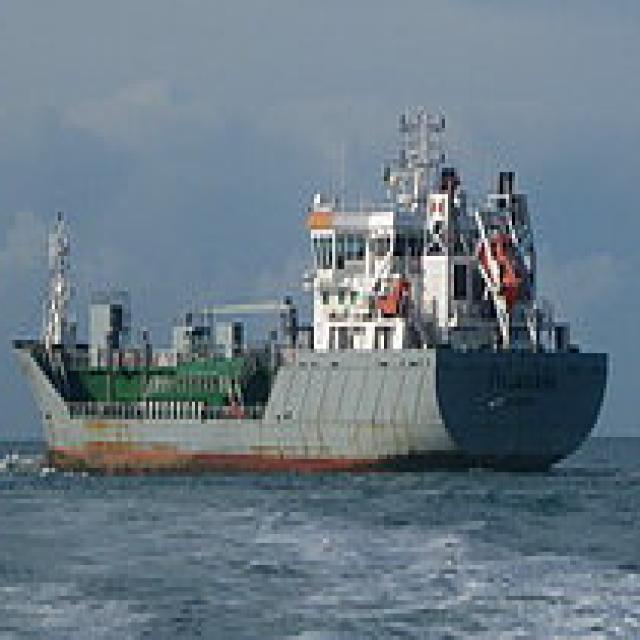Tanker: (12, 97, 613, 468)
